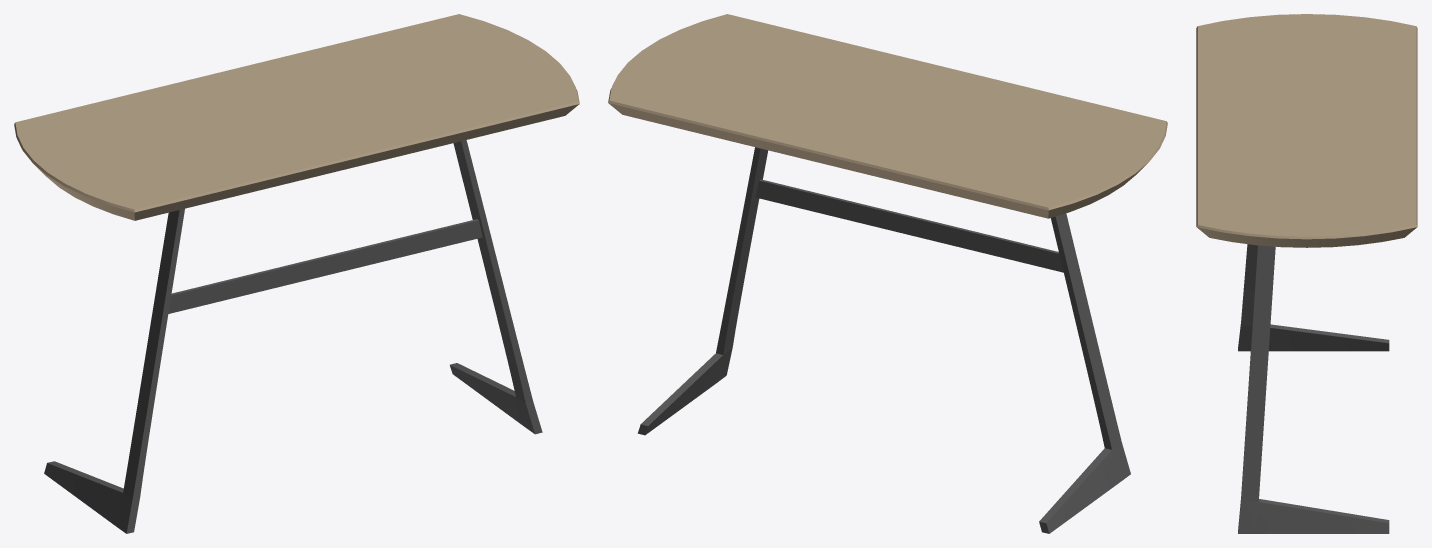
The model's file is 354_サイドテーブル.glb.
3 views of the same model, side by side, from view 1: azimuth 30°, elevation 25°; view 2: azimuth 150°, elevation 25°; view 3: azimuth 270°, elevation 25° (orthographic). The views are drawn at different scales.
Visible parts, largest first — view 1: Body; view 2: Body; view 3: Body.
Part boxes in pixels (left/top/right/bottom): Body: left=14, top=14, right=579, bottom=533; Body: left=608, top=14, right=1167, bottom=533; Body: left=1196, top=14, right=1417, bottom=533.
Size of the model in its own units: 0.8944 by 0.5883 by 0.3736.
